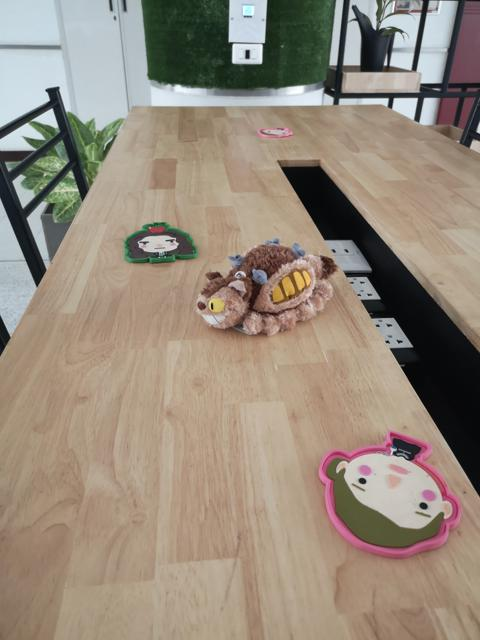nekobus: (193, 234, 341, 342)
